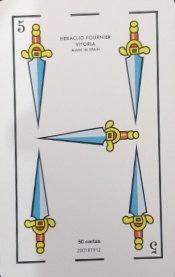5e: (11, 10, 159, 37)
